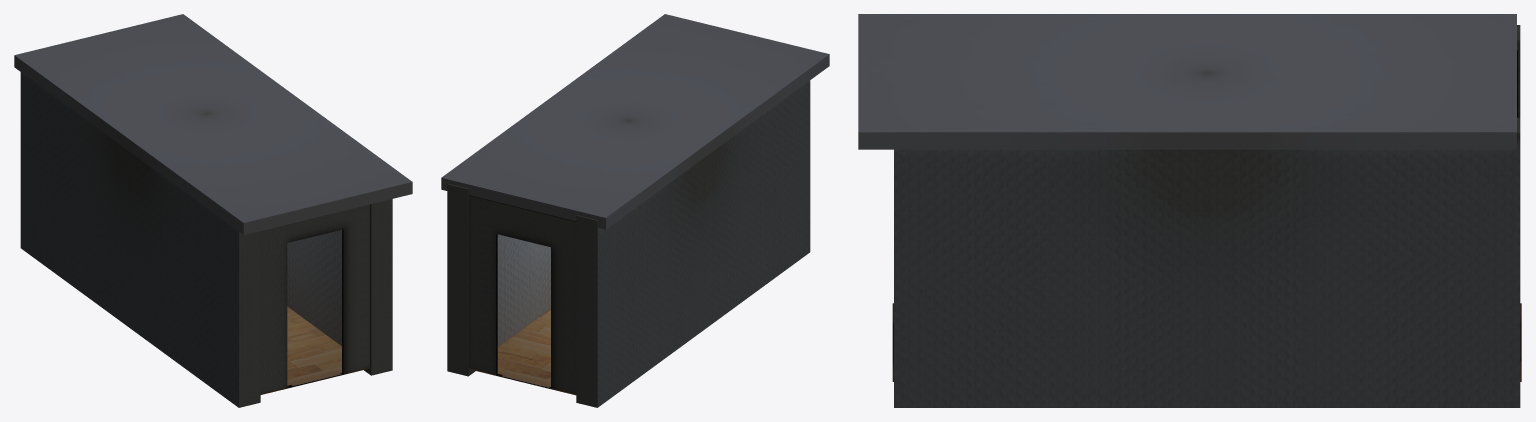
The model's file is TeleportRoomBaked.fbx.
3 renders of one model, left to right at view 1: azimuth 30°, elevation 25°; view 2: azimuth 150°, elevation 25°; view 3: azimuth 270°, elevation 25°, orthographic. The views are drawn at different scales.
Parts seen in each view (by area): view 1: room; view 2: room; view 3: room.
Part boxes in pixels (box(x1,y1,x2,y2)): room: box(14, 14, 412, 407); room: box(441, 14, 829, 407); room: box(858, 14, 1521, 407).
Bounding box in the file's own units: 782 × 867 × 1854.
